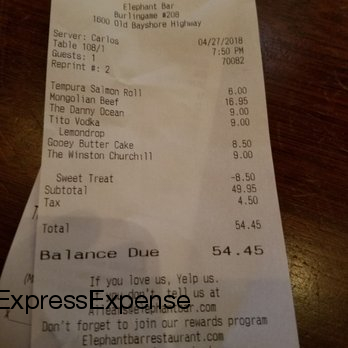Additional details: (37, 273, 277, 348)
Purchase summary: (38, 29, 269, 261)
Receipt: (36, 1, 300, 345)
Shop details: (90, 1, 210, 29)
